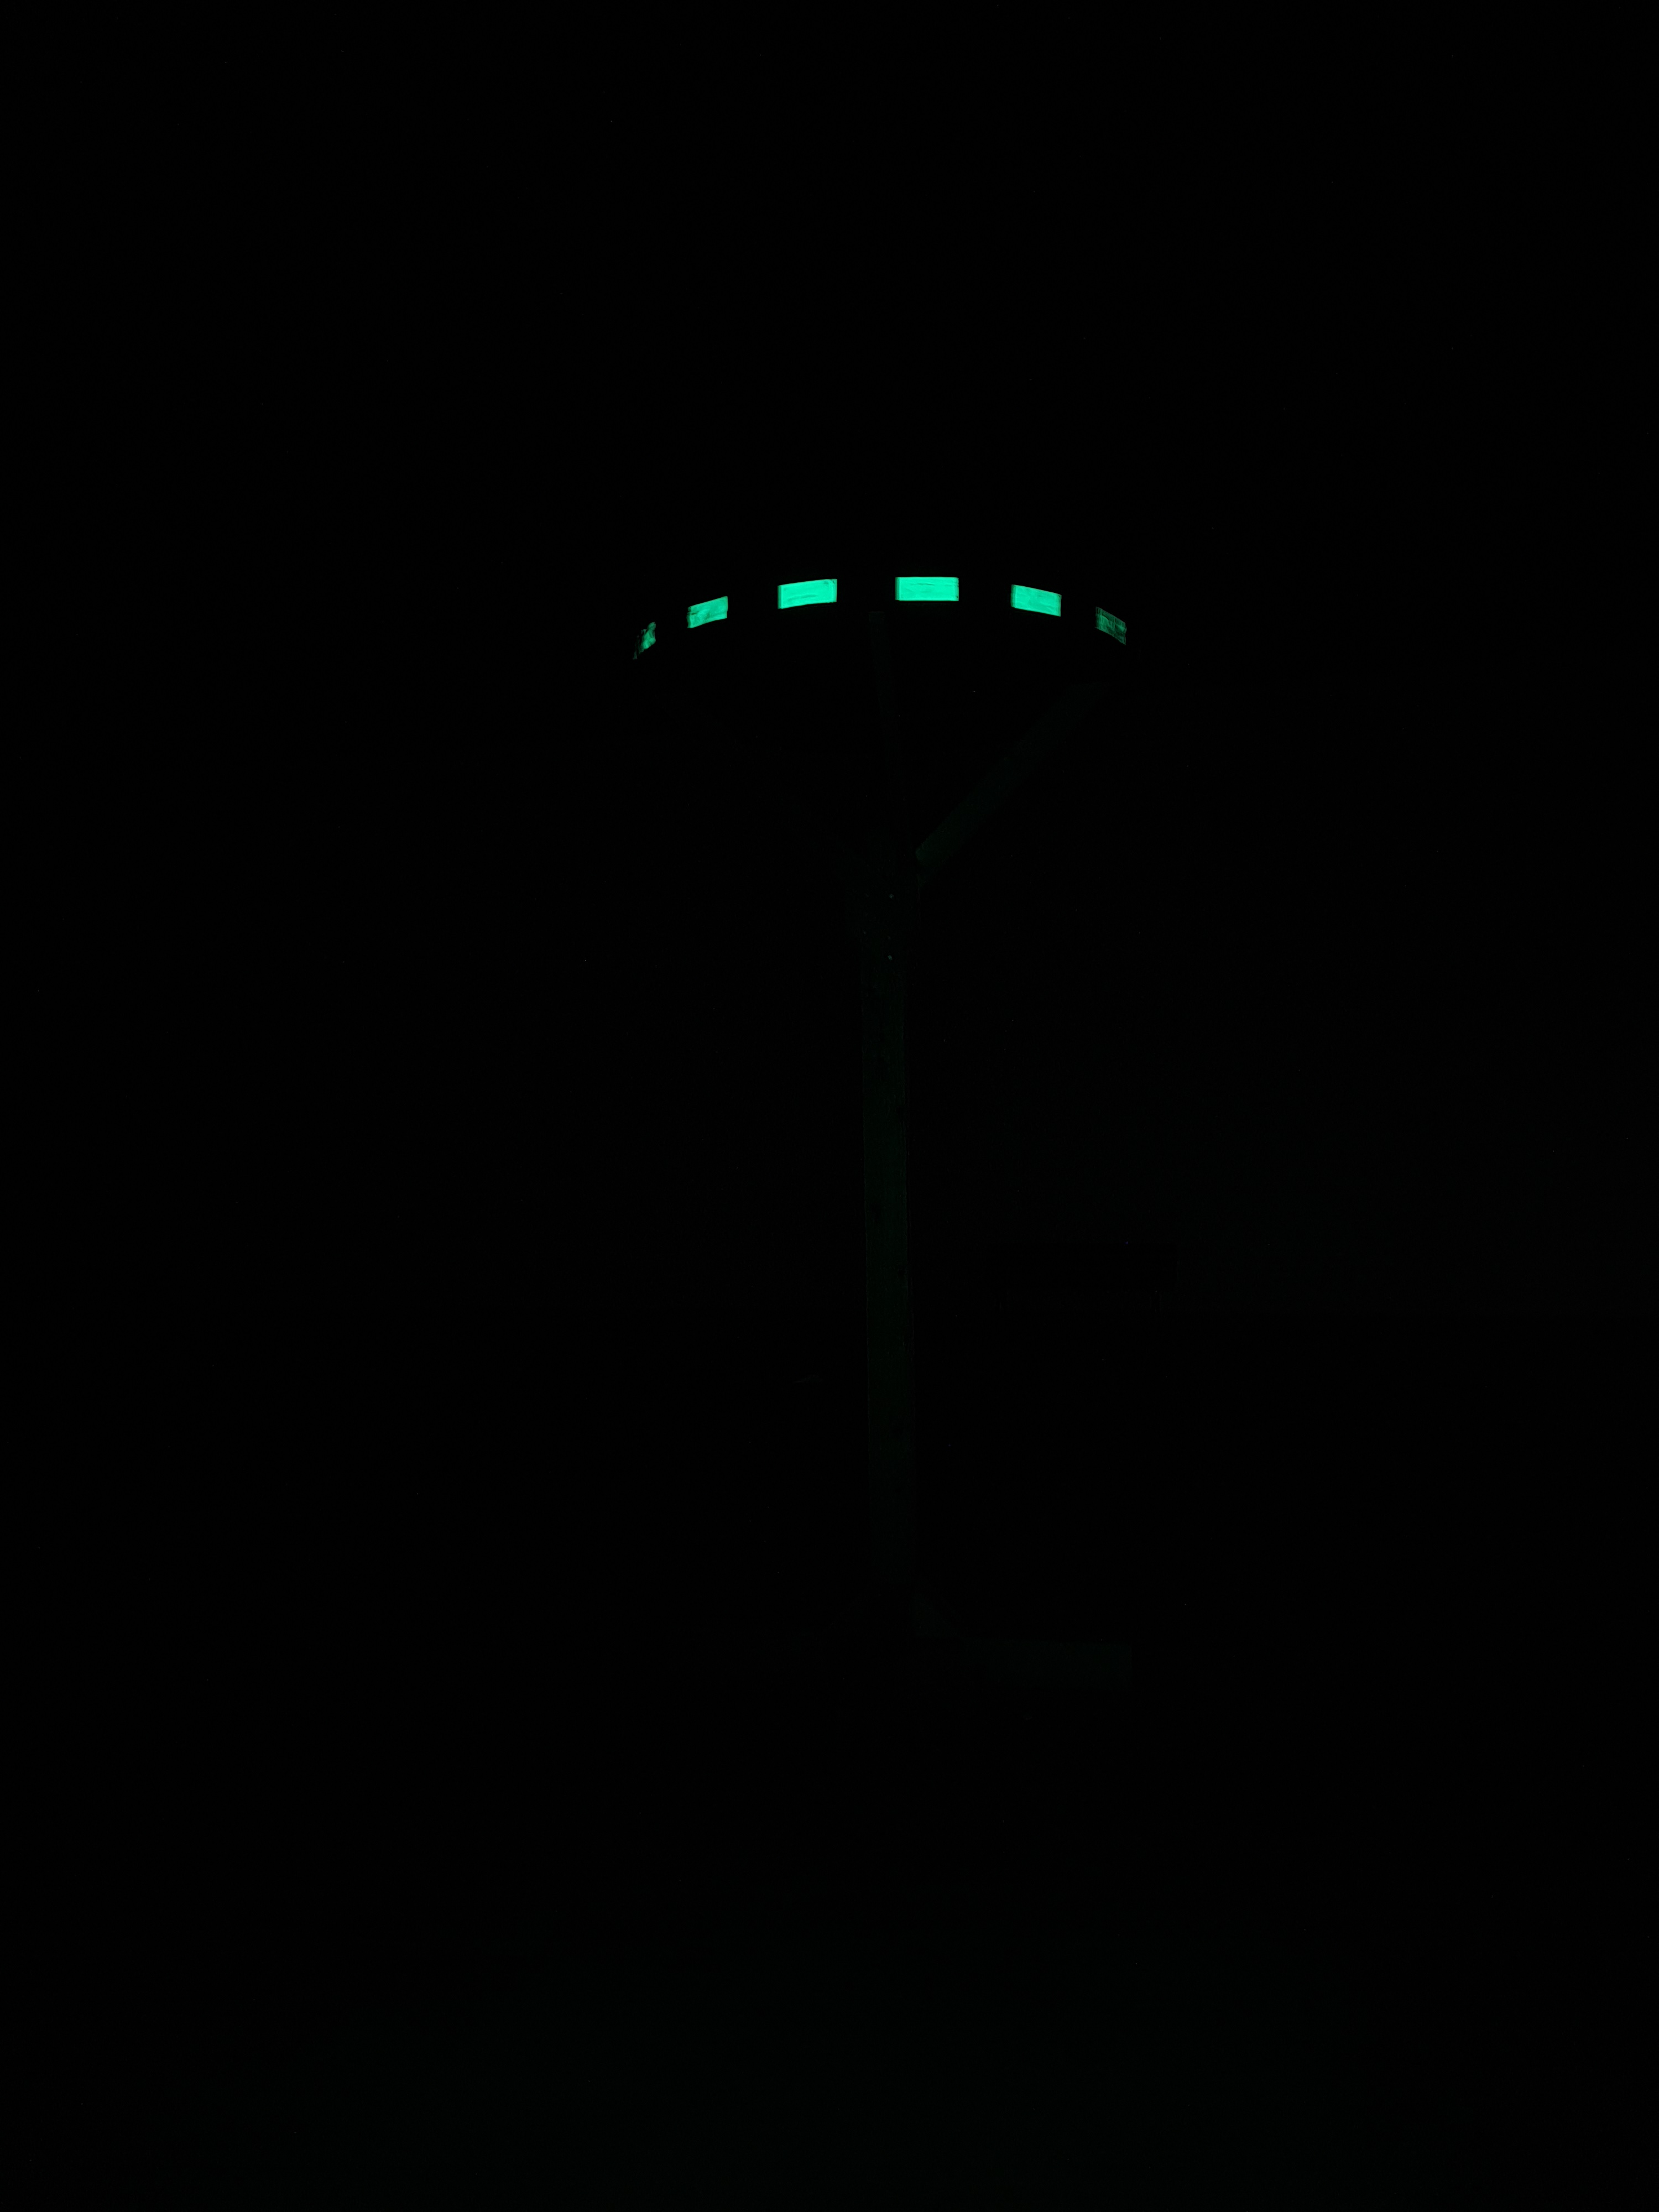hoop: (627, 566, 1138, 672)
